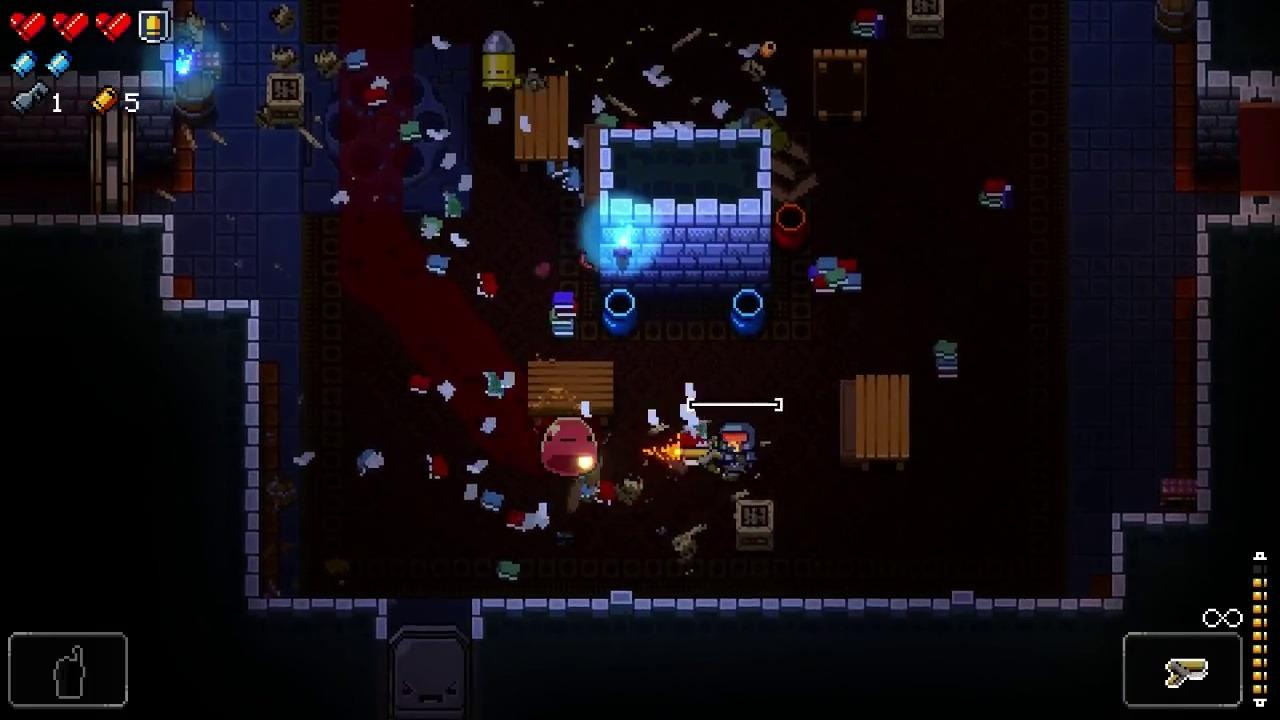blobulon_l: (540, 416, 599, 477)
blocked_door: (1241, 86, 1280, 213)
bullet_kin: (480, 31, 515, 89)
locked_door: (390, 626, 471, 720), (92, 103, 134, 215)
player: (719, 425, 758, 473)
table: (514, 72, 568, 171), (526, 361, 614, 421), (856, 376, 910, 470), (815, 51, 869, 123)
teleporter: (303, 44, 472, 214)
